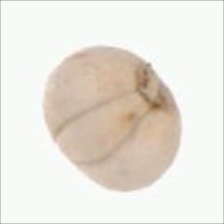L5: (50, 89, 154, 166), (132, 59, 181, 113)
L6: (41, 42, 186, 194)
